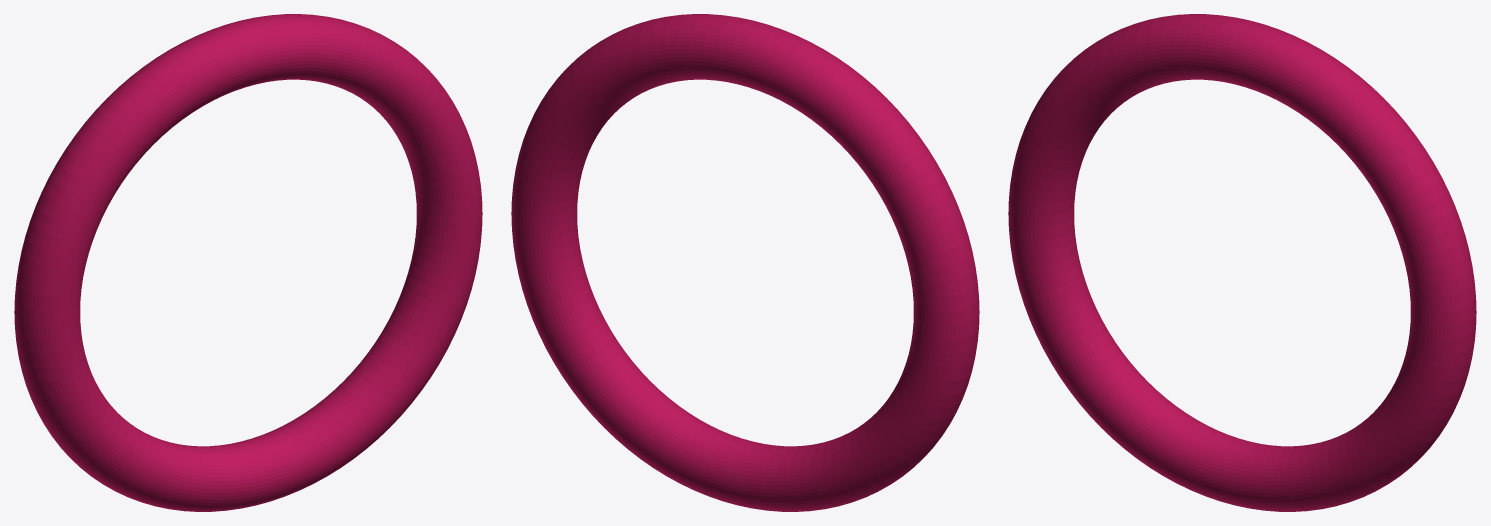
3 views of the same model, side by side, from view 1: azimuth 30°, elevation 25°; view 2: azimuth 150°, elevation 25°; view 3: azimuth 330°, elevation 25° (orthographic).
Parts seen in each view (by area): view 1: world; view 2: world; view 3: world.
Boxes of the visible parts, box(x1,y1,x2,y2) form: world: box(14, 14, 482, 511); world: box(511, 14, 979, 511); world: box(1008, 14, 1476, 511).
Size of the model in its own units: 31.2 by 31.2 by 3.86.
